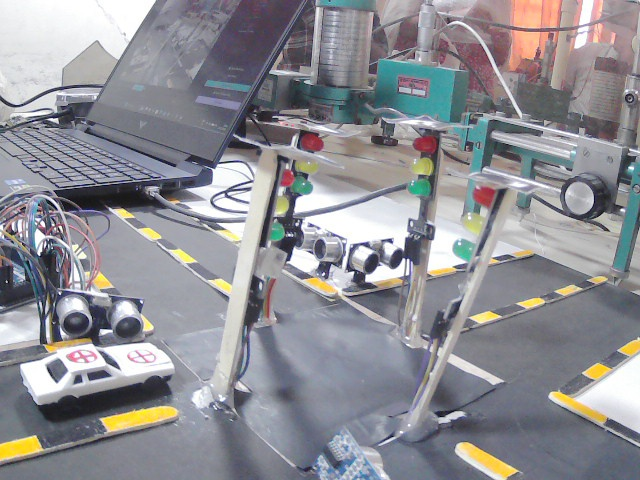aruco_marker: (448, 170, 539, 199)
emergency_vehicle: (12, 342, 177, 412)
traffic_light: (395, 125, 447, 250), (245, 161, 298, 268), (447, 184, 503, 278), (283, 132, 333, 212)
uno_breadboard: (0, 198, 78, 305), (53, 292, 148, 338), (293, 218, 348, 276), (348, 237, 403, 282)
